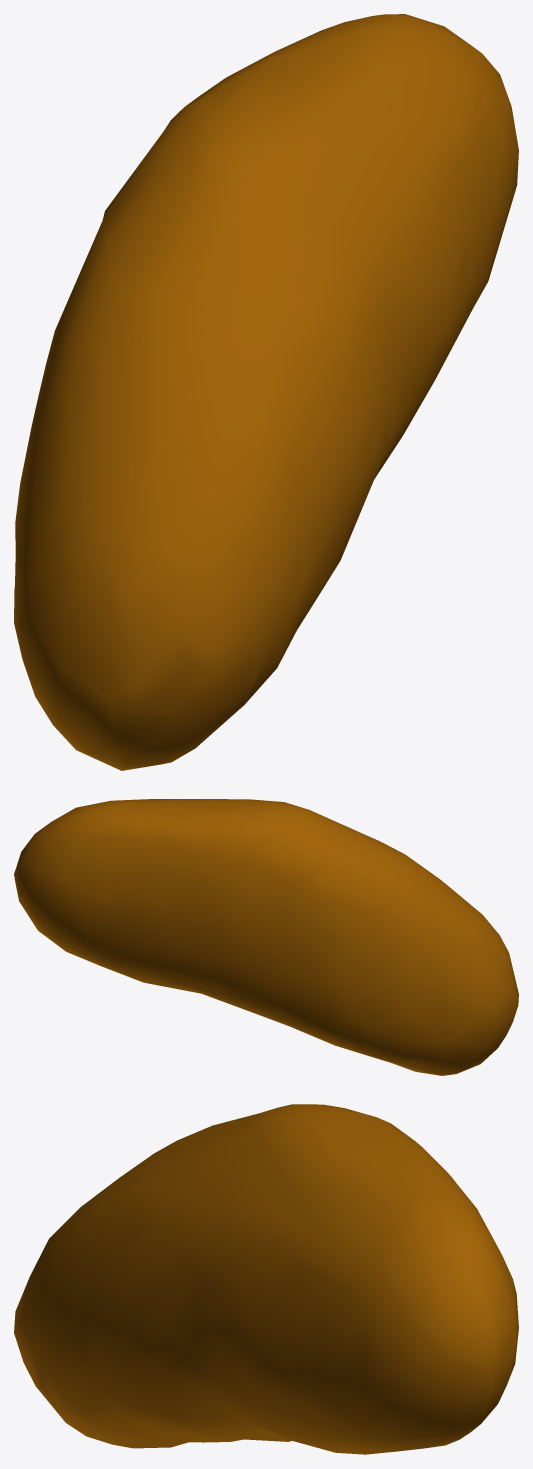
File: vesicula.fbx
3 views of the same model, one above another, from view 1: azimuth 30°, elevation 25°; view 2: azimuth 150°, elevation 25°; view 3: azimuth 270°, elevation 25° (orthographic). The views are drawn at different scales.
Parts seen in each view (by area): view 1: vesicula; view 2: vesicula; view 3: vesicula.
Part boxes in pixels (x1,y1,x2,y2): vesicula: (14, 14, 518, 770); vesicula: (14, 799, 518, 1075); vesicula: (14, 1104, 518, 1454).
Bounding box in the file's own units: 4.2 × 3.03 × 3.35.
